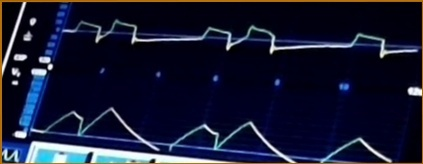Double_Triggering Flow: (65, 13, 416, 65)
Double_Triggering Volume: (36, 102, 390, 164)
